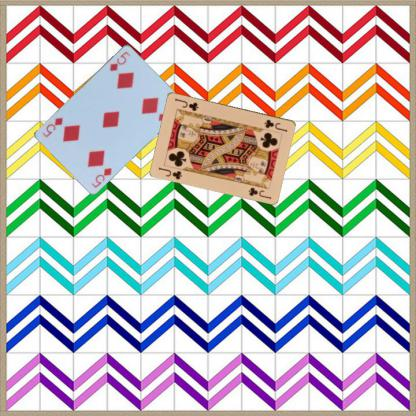5d: (88, 165, 113, 189), (107, 49, 132, 72)
Jc: (156, 164, 184, 181), (262, 117, 288, 133)
